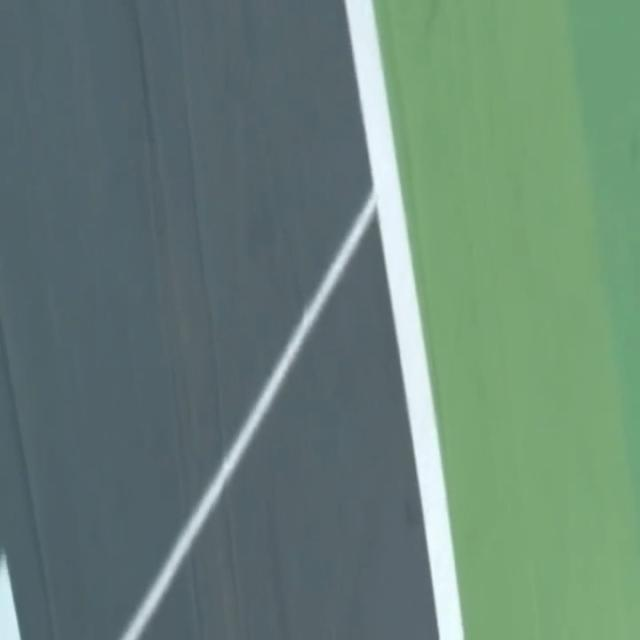right: (345, 0, 463, 639)
